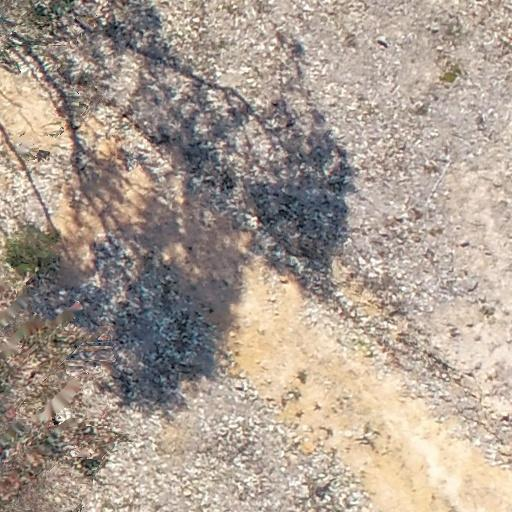stone: (439, 17, 468, 43), (437, 62, 465, 84), (412, 99, 434, 116), (479, 303, 497, 319), (407, 99, 424, 114), (343, 32, 358, 48), (374, 34, 391, 48), (411, 206, 425, 222), (393, 211, 409, 225), (234, 380, 249, 393), (296, 369, 308, 385), (476, 113, 486, 131), (448, 326, 462, 338), (314, 400, 323, 410)
